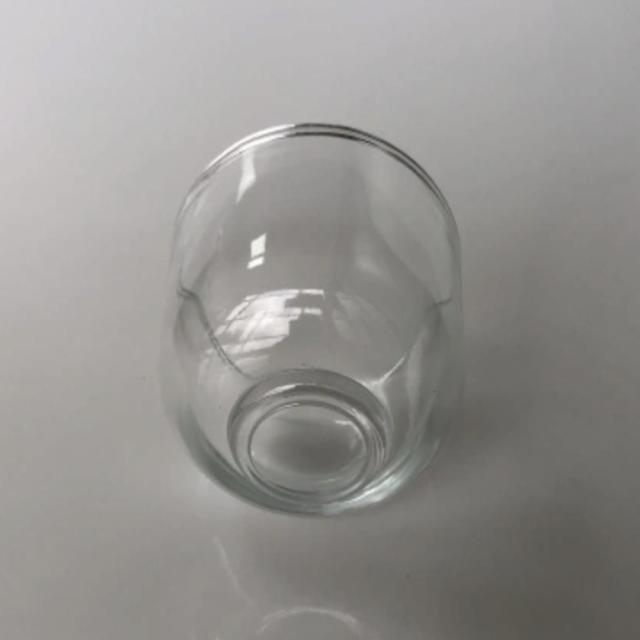recyclable: (157, 101, 465, 539)
